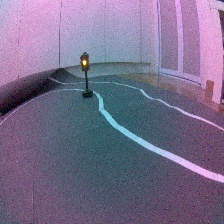amber: (79, 51, 95, 98)
